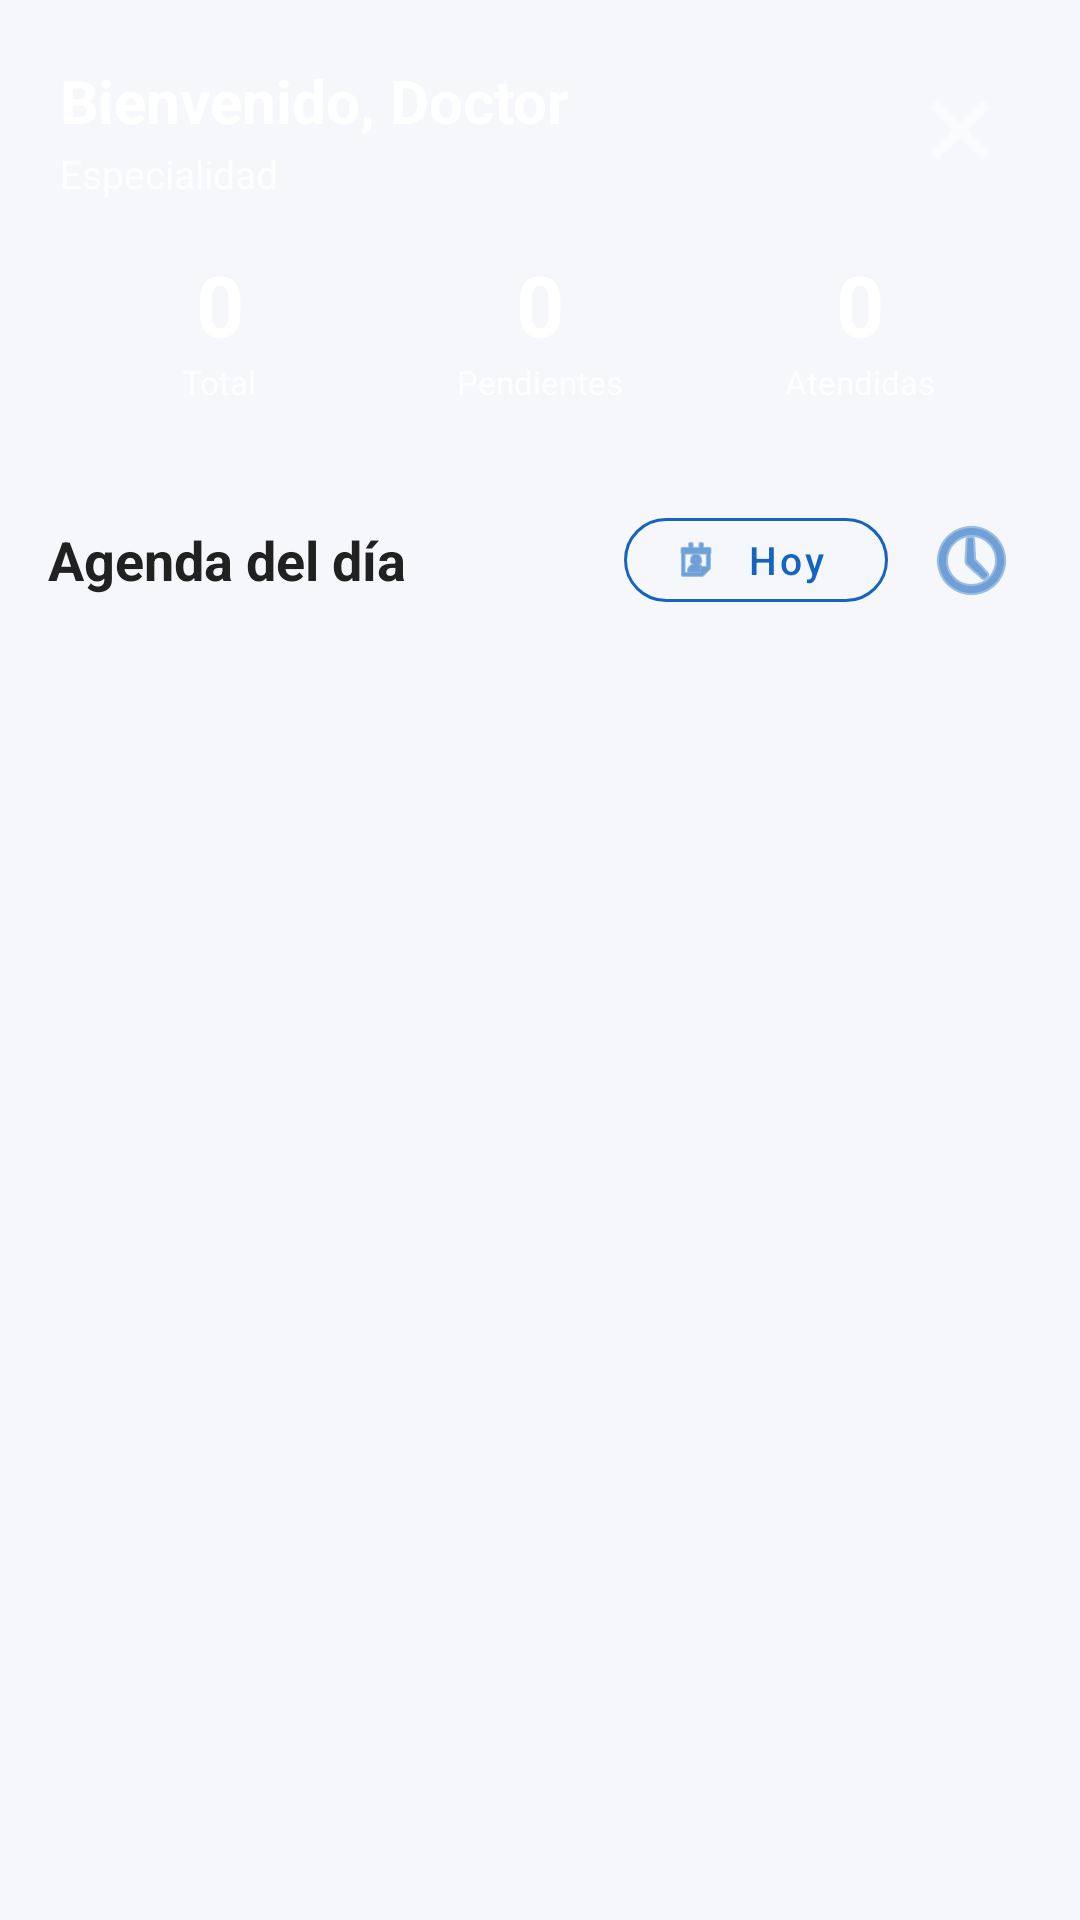

Icon bounding boxes for this 1080w x 1920h phone screenshot, format (x1=x1, y1=y1, x2=x2, y2=y2):
Mis horarios: (x1=937, y1=526, x2=1006, y2=595)
